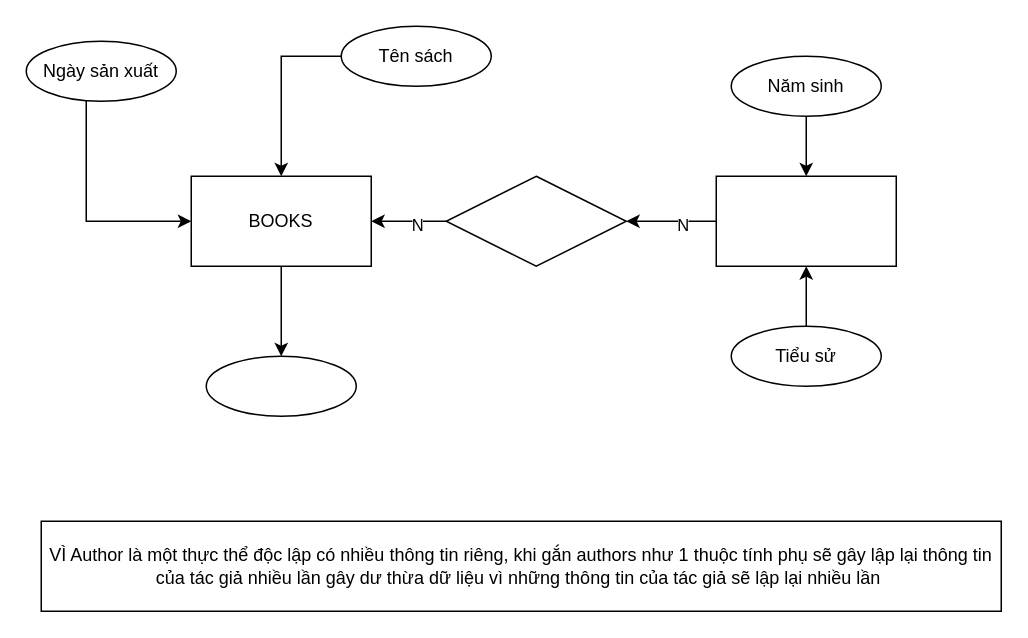
Some shapes in this 1028 by 638 pixel diagram are drawn without their labels. Here are the shapes that lost their labels. From the top down, the centre of each, then its label:
At [535,220]: "Relationship".
At [805,220]: "AUTHORS".
At [280,385]: "ID Sách".
